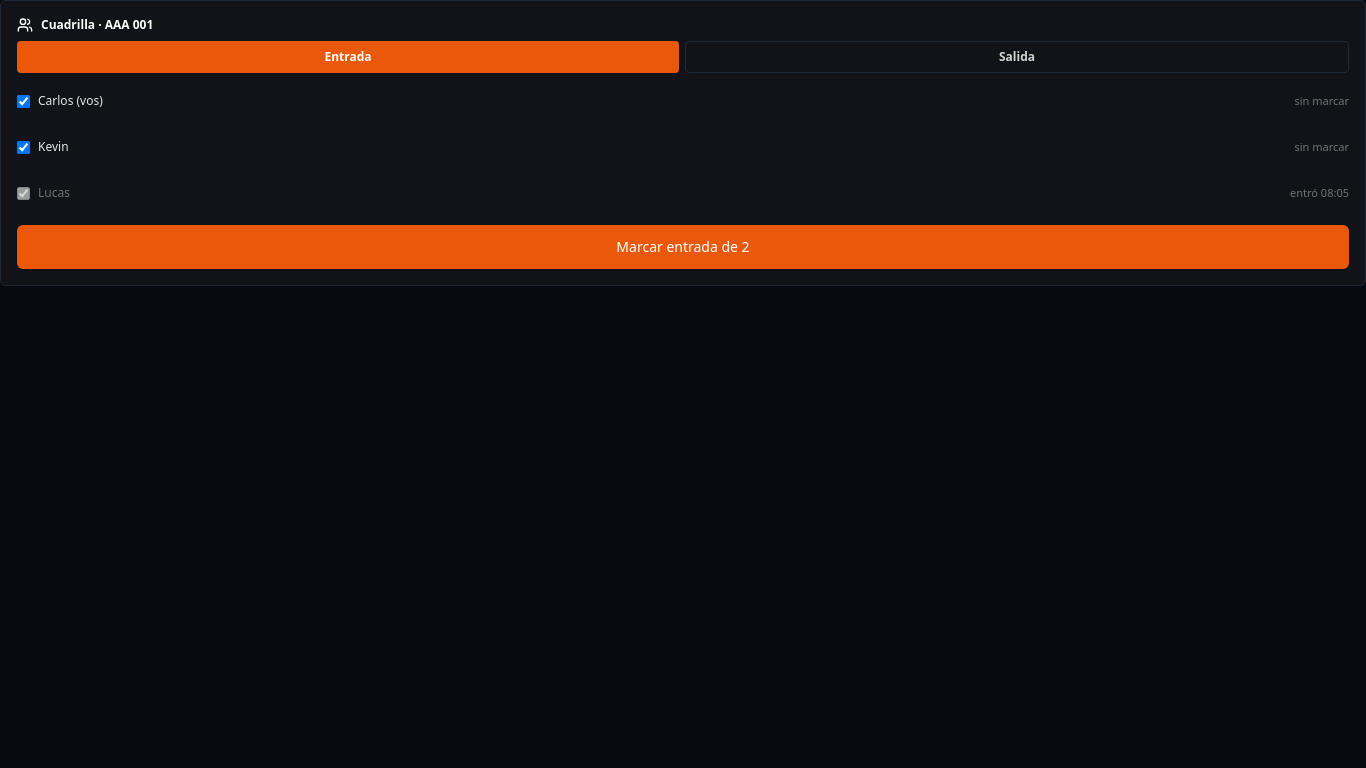
Scenario: Loop 16 — cuadrilla (En la calle) › fuera de zona: pide el motivo y reenvía lo mismo (mismas claves) con el motivo
Later steps or results of the test are not shown.
Step 1. Click the button "Marcar entrada de 2" → (683, 247), box [17,225,1349,269]
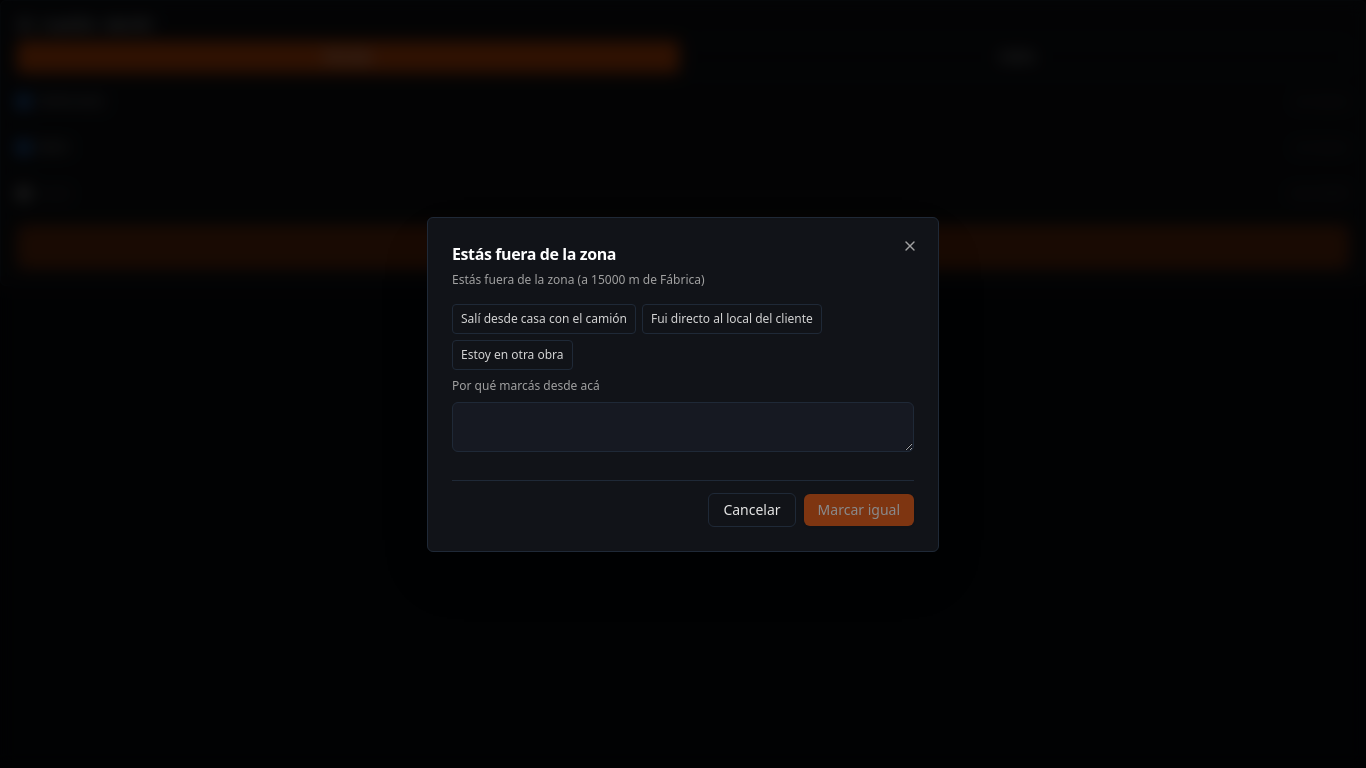
Expected: the text "Estás fuera de la zona (a 15000 m de Fábrica)" is shown, [452,270,705,288]
